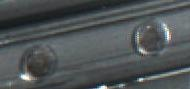joints: (131, 18, 172, 57), (19, 43, 57, 80)
twou: (27, 81, 168, 89)
